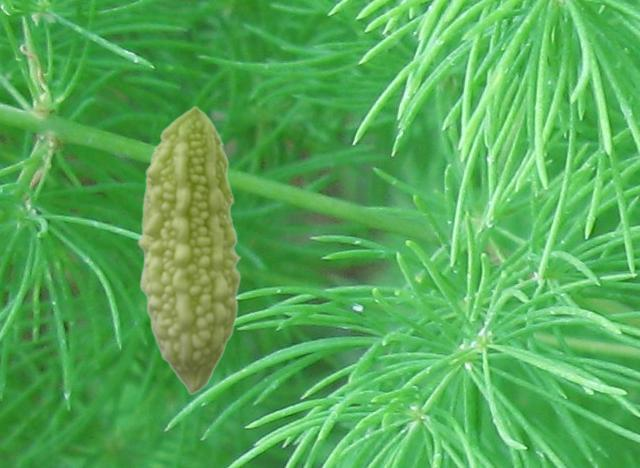ampalaya: (137, 104, 242, 395)
